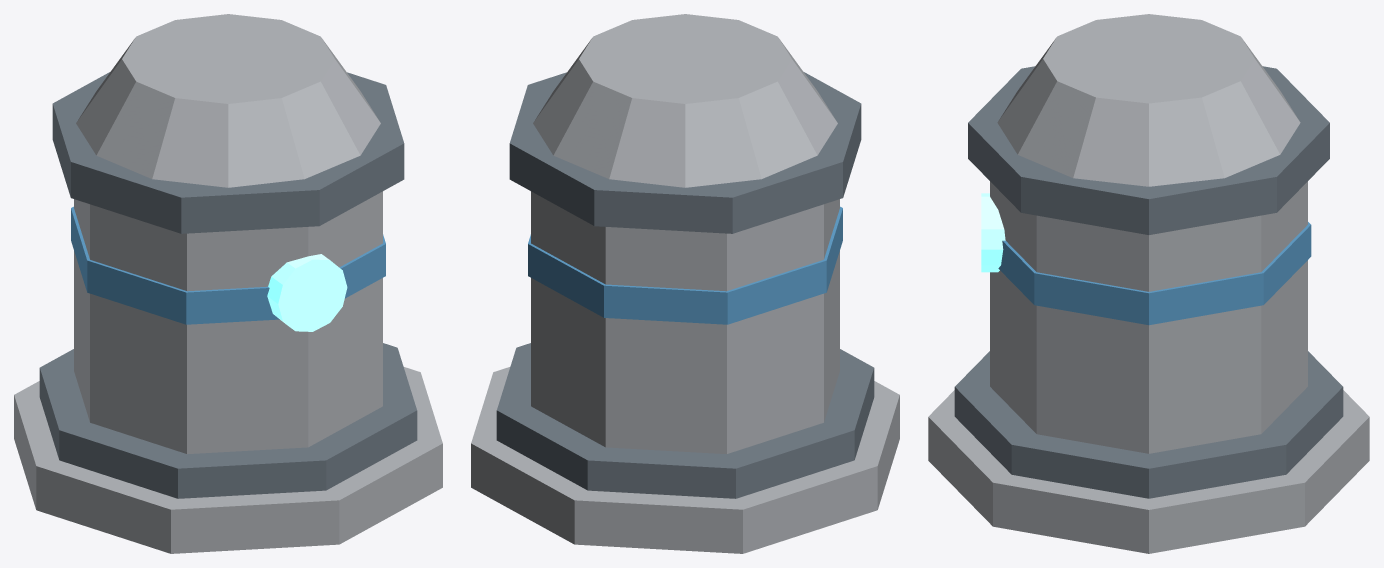
Rendered from tower_common.glb.
3 renders of one model, left to right at view 1: azimuth 30°, elevation 25°; view 2: azimuth 150°, elevation 25°; view 3: azimuth 270°, elevation 25°, orthographic.
Parts seen in each view (by area): view 1: GEO_CommonBody, GEO_TopDome, GEO_BaseLower, GEO_BaseUpper, GEO_TopCollar, GEO_FactionBand, GEO_StatusCore; view 2: GEO_CommonBody, GEO_TopDome, GEO_BaseLower, GEO_BaseUpper, GEO_TopCollar, GEO_FactionBand; view 3: GEO_CommonBody, GEO_TopDome, GEO_BaseLower, GEO_BaseUpper, GEO_TopCollar, GEO_FactionBand, GEO_StatusCore.
Part boxes in pixels (left/top/right/bottom): GEO_CommonBody: left=74, top=191, right=382, bottom=454; GEO_TopDome: left=76, top=14, right=380, bottom=187; GEO_BaseLower: left=14, top=367, right=442, bottom=553; GEO_BaseUpper: left=39, top=343, right=417, bottom=498; GEO_TopCollar: left=52, top=72, right=404, bottom=233; GEO_FactionBand: left=71, top=206, right=385, bottom=324; GEO_StatusCore: left=267, top=254, right=347, bottom=331; GEO_CommonBody: left=531, top=191, right=839, bottom=454; GEO_TopDome: left=533, top=14, right=837, bottom=187; GEO_BaseLower: left=471, top=367, right=899, bottom=553; GEO_BaseUpper: left=496, top=343, right=874, bottom=498; GEO_TopCollar: left=509, top=72, right=861, bottom=233; GEO_FactionBand: left=528, top=206, right=842, bottom=324; GEO_CommonBody: left=990, top=181, right=1307, bottom=453; GEO_TopDome: left=997, top=14, right=1300, bottom=186; GEO_BaseLower: left=928, top=390, right=1369, bottom=553; GEO_BaseUpper: left=954, top=351, right=1343, bottom=498; GEO_TopCollar: left=968, top=66, right=1329, bottom=234; GEO_FactionBand: left=998, top=222, right=1311, bottom=325; GEO_StatusCore: left=981, top=193, right=1005, bottom=272.
Bounding box in the file's own units: 2 × 2.01 × 2.
